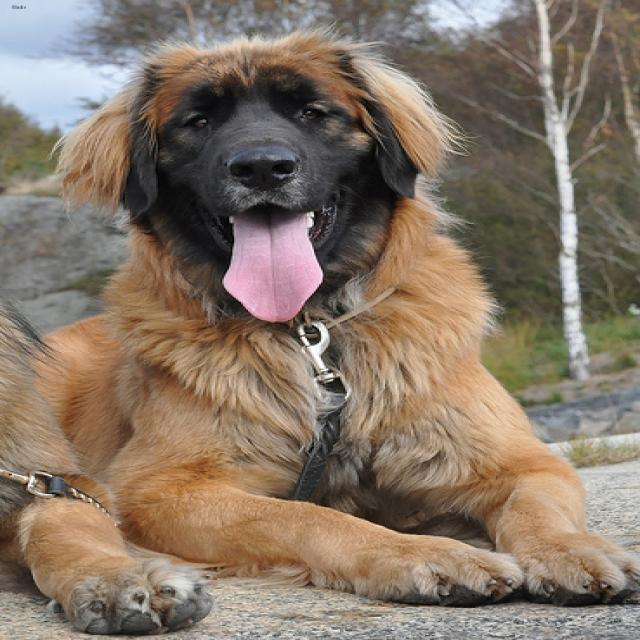dog-leonberger: (2, 18, 637, 637)
